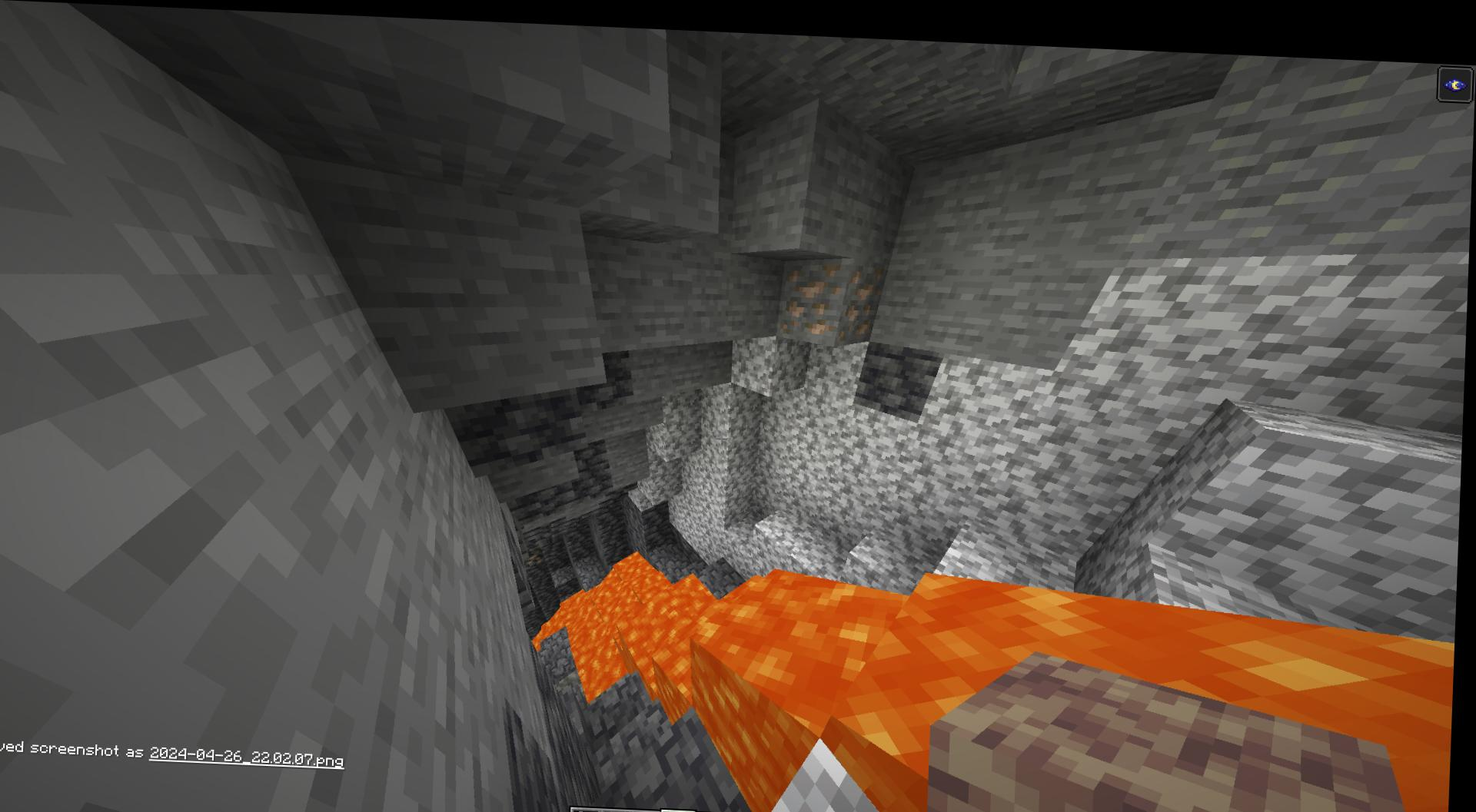iron ore: (786, 253, 876, 339)
